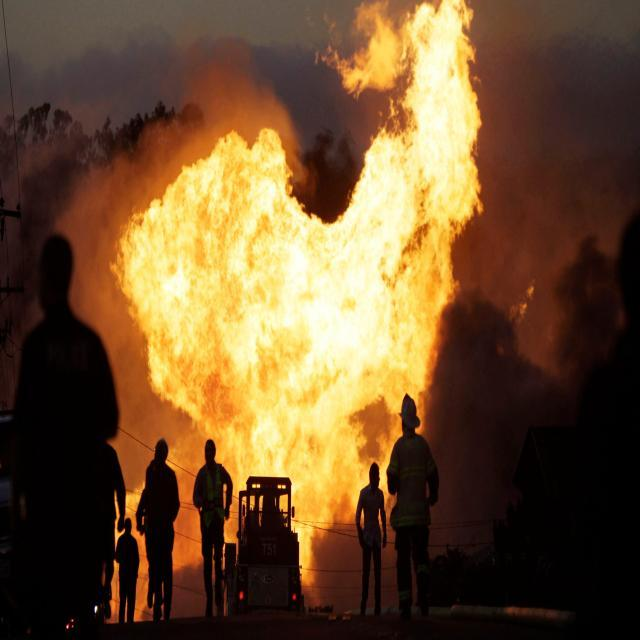Smoke: (34, 23, 310, 520), (454, 0, 636, 375)
